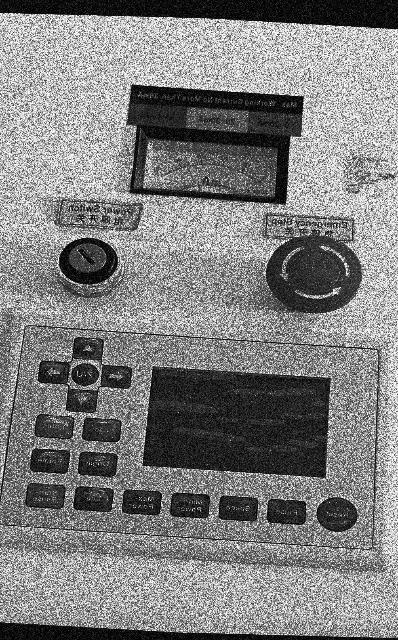Amp_Meter: (133, 135, 277, 198)
Display: (143, 368, 330, 477)
Down_button: (66, 389, 97, 412)
Emergency_Stop: (267, 236, 362, 313)
Enter_button: (35, 415, 74, 439)
Esc_button: (83, 418, 121, 442)
File_button: (74, 487, 113, 512)
Frame_button: (30, 449, 70, 473)
Left_button: (101, 366, 131, 389)
Max-Power_button: (122, 490, 161, 515)
Min-Power_button: (171, 493, 210, 518)
Origin_button: (78, 452, 117, 477)
Power_switch: (59, 238, 123, 297)
Pulse_button: (268, 500, 306, 524)
Reset_button: (317, 498, 357, 531)
Right_button: (38, 361, 69, 384)
Speed_button: (219, 496, 258, 521)
Start-Pause_button: (26, 484, 65, 508)
Up_button: (74, 338, 103, 360)
Z_U_button: (72, 364, 98, 385)
